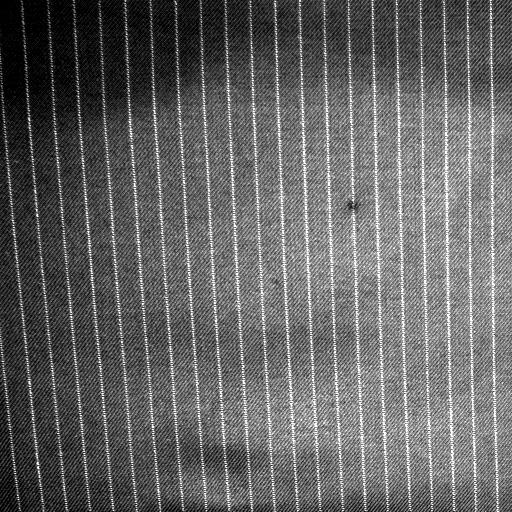fabric_hole: (343, 189, 363, 221)
